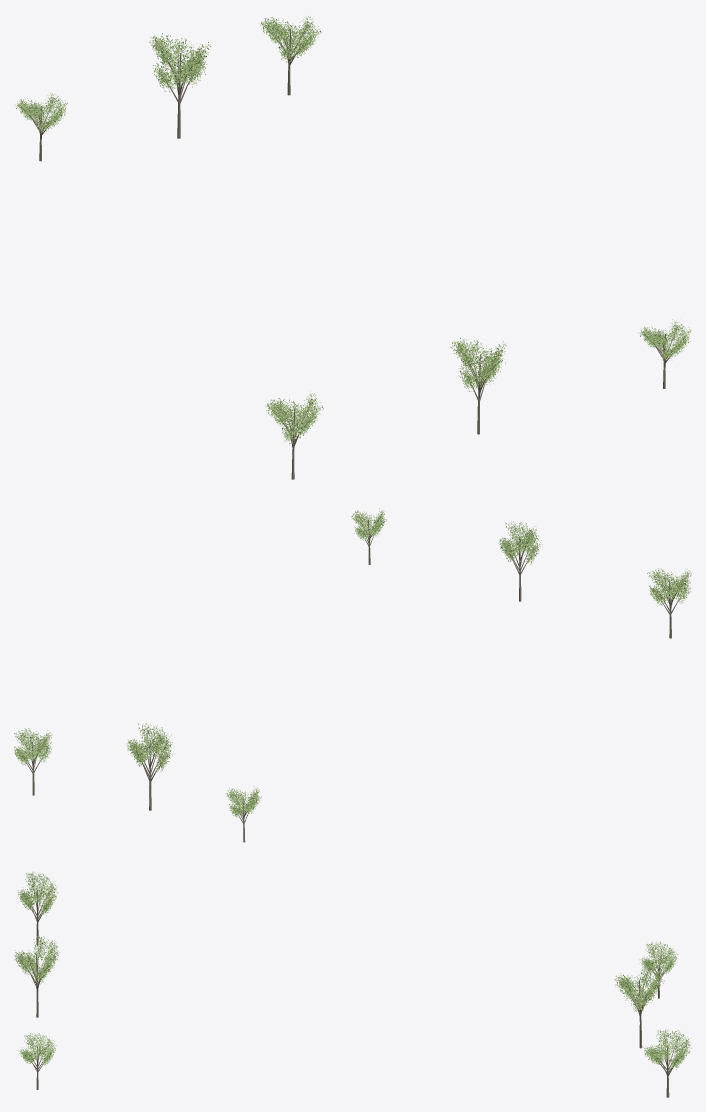
Rendered from 20261103-public-planting-4.glb.
3 views of the same model, one above another, from view 1: azimuth 30°, elevation 25°; view 2: azimuth 150°, elevation 25°; view 3: azimuth 270°, elevation 25° (orthographic). The views are drawn at different scales.
Parts seen in each view (by area): view 1: Public realm tree 22 - Tree foliage, Public realm tree 22 - Tree foliage.001, Public realm tree 22 - Tree foliage.002, Public realm tree 22 - Tree foliage.003; view 2: Public realm tree 22 - Tree foliage, Public realm tree 22 - Tree foliage.003; view 3: Public realm tree 22 - Tree foliage, Public realm tree 22 - Tree foliage.002, Public realm tree 22 - Tree foliage.001, Public realm tree 22 - Tree foliage.003, Public realm tree 23 - Tree foliage, Public realm tree 44 - Tree foliage, Public realm tree 44 - Tree foliage.002, Public realm tree 44 - Tree foliage.003, Public realm tree 23 - Tree foliage.002, Public realm tree 43 - Tree foliage, Public realm tree 23 - Tree foliage.001, Public realm tree 23 - Tree foliage.003 (+4 smaller).
Boxes of the visible parts, bbox=[...] form: Public realm tree 22 - Tree foliage: bbox=[151, 34, 210, 91]; Public realm tree 22 - Tree foliage.001: bbox=[152, 35, 209, 91]; Public realm tree 22 - Tree foliage.002: bbox=[149, 33, 208, 92]; Public realm tree 22 - Tree foliage.003: bbox=[150, 35, 209, 89]; Public realm tree 22 - Tree foliage: bbox=[127, 723, 170, 770]; Public realm tree 22 - Tree foliage.003: bbox=[127, 723, 173, 771]; Public realm tree 22 - Tree foliage: bbox=[615, 959, 664, 1011]; Public realm tree 22 - Tree foliage.002: bbox=[614, 961, 663, 1010]; Public realm tree 22 - Tree foliage.001: bbox=[615, 959, 664, 1011]; Public realm tree 22 - Tree foliage.003: bbox=[616, 960, 662, 1010]; Public realm tree 23 - Tree foliage: bbox=[645, 1029, 689, 1069]; Public realm tree 44 - Tree foliage: bbox=[15, 935, 60, 983]; Public realm tree 44 - Tree foliage.002: bbox=[14, 937, 58, 983]; Public realm tree 44 - Tree foliage.003: bbox=[15, 936, 57, 982]; Public realm tree 23 - Tree foliage.002: bbox=[644, 1029, 690, 1069]; Public realm tree 43 - Tree foliage: bbox=[19, 871, 56, 914]; Public realm tree 23 - Tree foliage.001: bbox=[643, 1031, 690, 1069]; Public realm tree 23 - Tree foliage.003: bbox=[643, 1030, 691, 1067].
Size of the model in its own units: 45.06 by 9.95 by 75.3.
